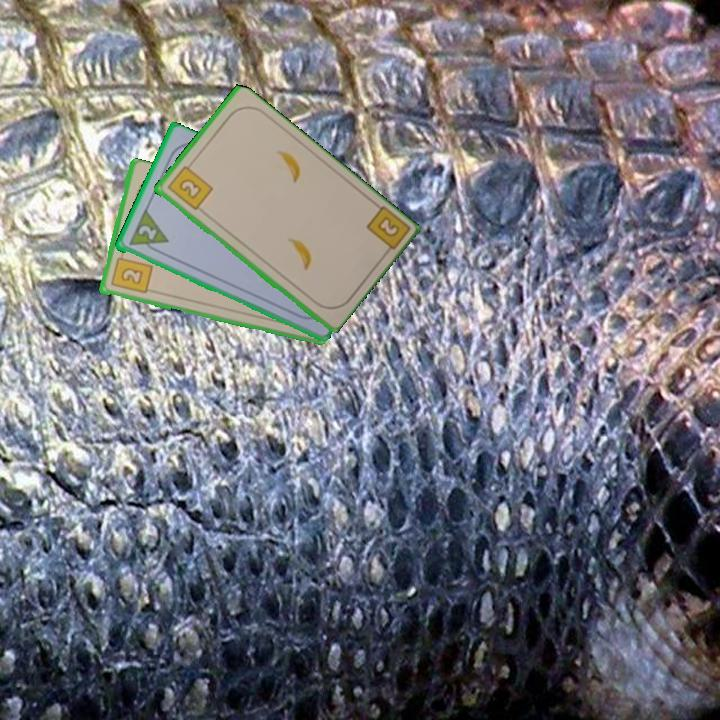2b: (362, 202, 411, 260), (163, 159, 215, 213), (107, 248, 154, 297)
2p: (124, 208, 171, 258)
